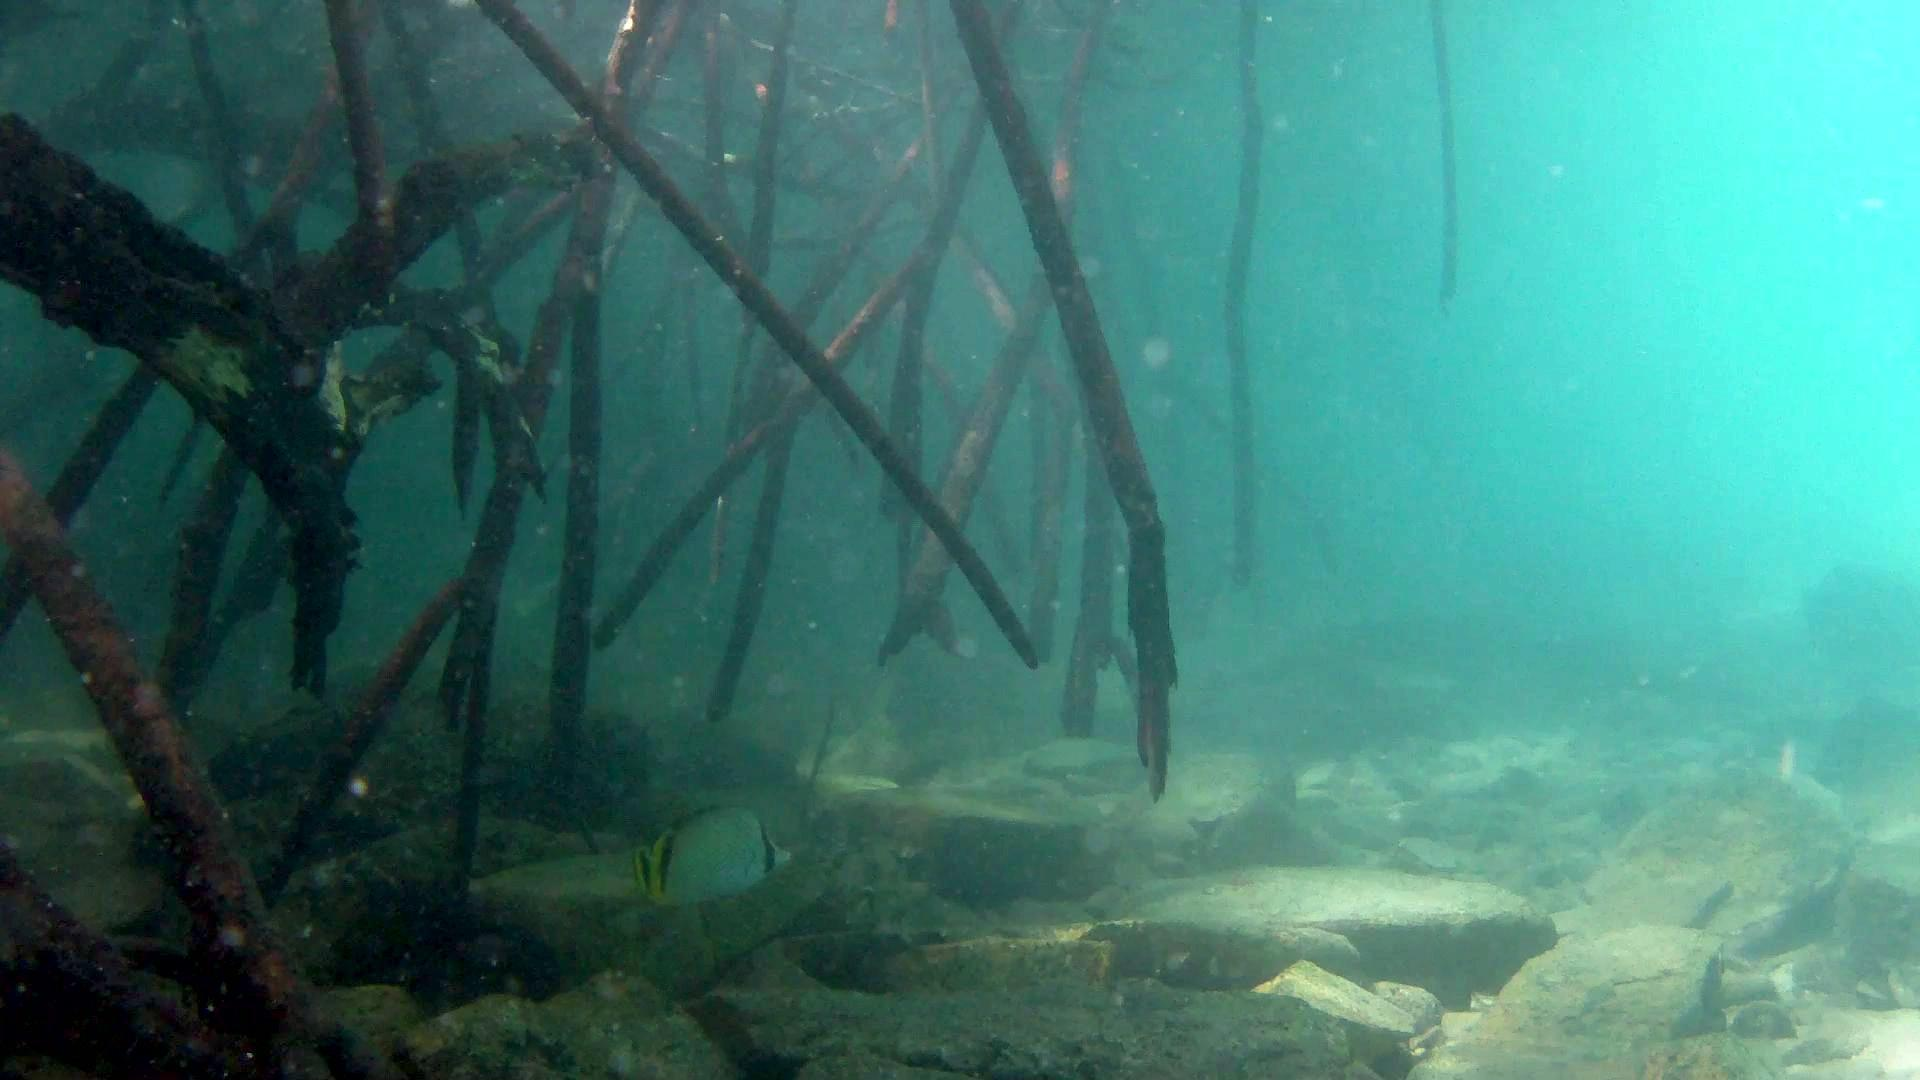chaetodon vagabundus: (628, 804, 794, 911)
